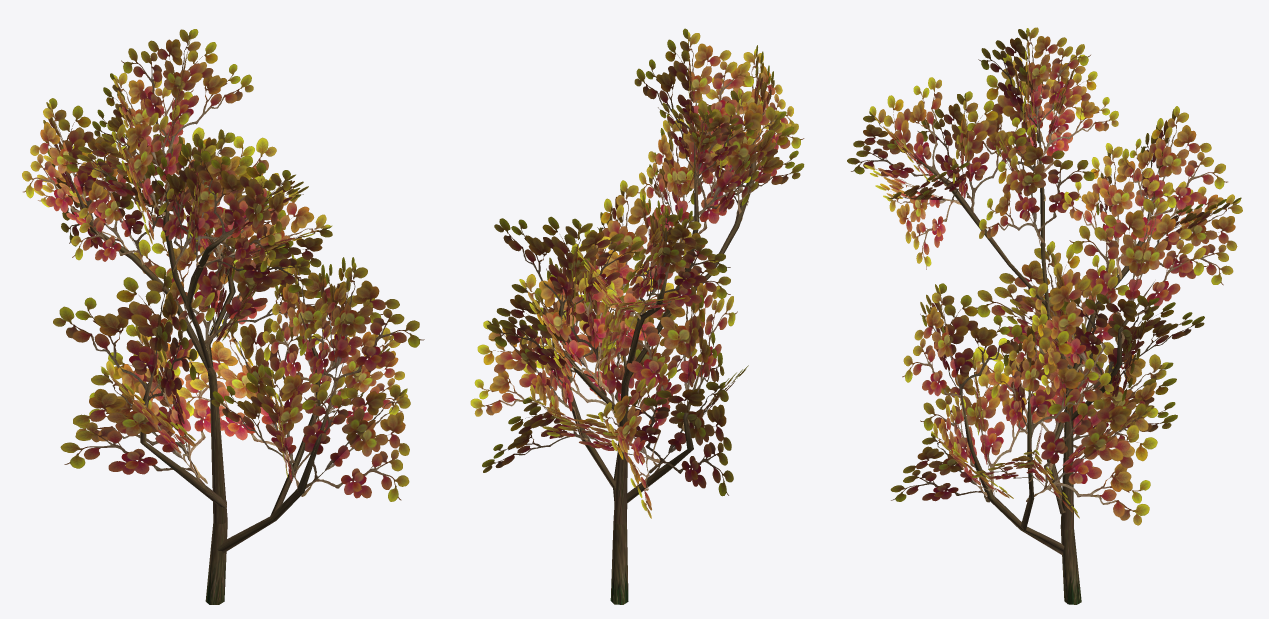
File: Scene_guanmu_009.FBX
3 renders of one model, left to right at view 1: azimuth 30°, elevation 25°; view 2: azimuth 150°, elevation 25°; view 3: azimuth 270°, elevation 25°, orthographic. The views are drawn at different scales.
Visible parts, largest first — view 1: Scene_guanmu_009; view 2: Scene_guanmu_009; view 3: Scene_guanmu_009.
Boxes of the visible parts, <box> form: Scene_guanmu_009: <box>22,29,424,604</box>; Scene_guanmu_009: <box>470,28,804,604</box>; Scene_guanmu_009: <box>847,27,1242,604</box>.
Bounding box in the file's own units: 198 × 346 × 228.
